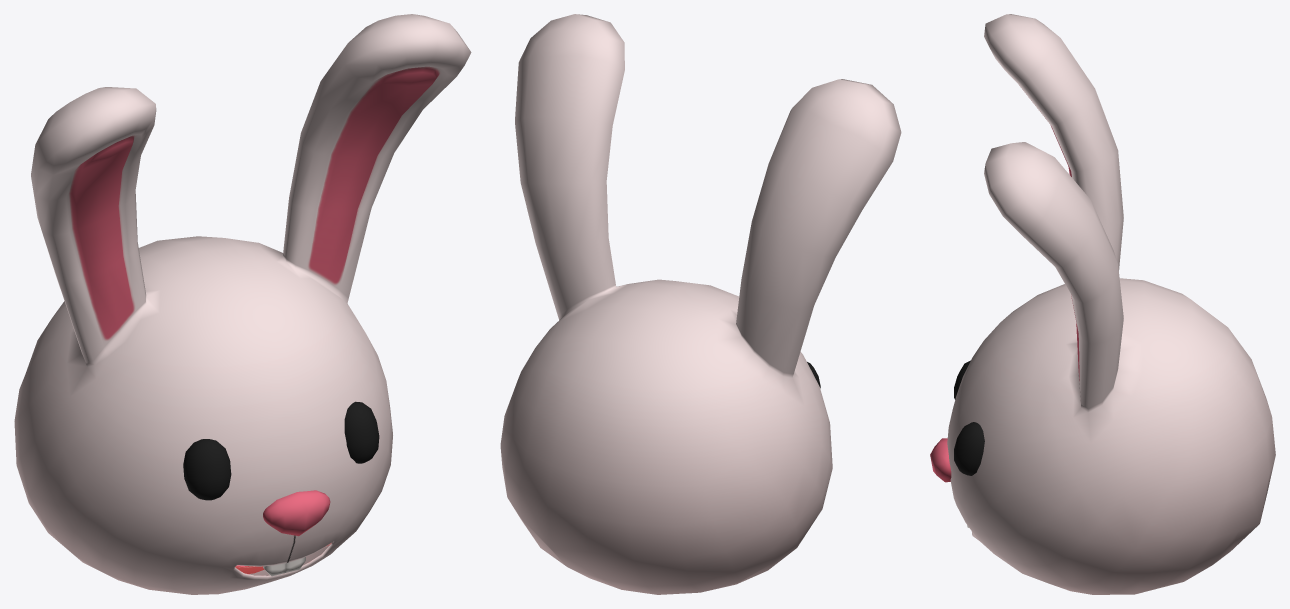
Rendered from rabit.glb.
3 views of the same model, side by side, from view 1: azimuth 30°, elevation 25°; view 2: azimuth 150°, elevation 25°; view 3: azimuth 270°, elevation 25° (orthographic). The views are drawn at different scales.
Visible parts, largest first — view 1: RabbitHead, RabbitHead_RabbitHead_02_0.002; view 2: RabbitHead; view 3: RabbitHead, RabbitHead_RabbitHead_02_0.002.
Boxes of the visible parts, x1,y1,x2,y2 form: RabbitHead: (14,14,471,594); RabbitHead_RabbitHead_02_0.002: (344,401,379,463); RabbitHead: (500,14,901,594); RabbitHead: (930,14,1275,594); RabbitHead_RabbitHead_02_0.002: (954,422,984,475).
Size of the model in its own units: 54.18 by 68.09 by 43.62.
Materials: 4 (4 with a texture image).
